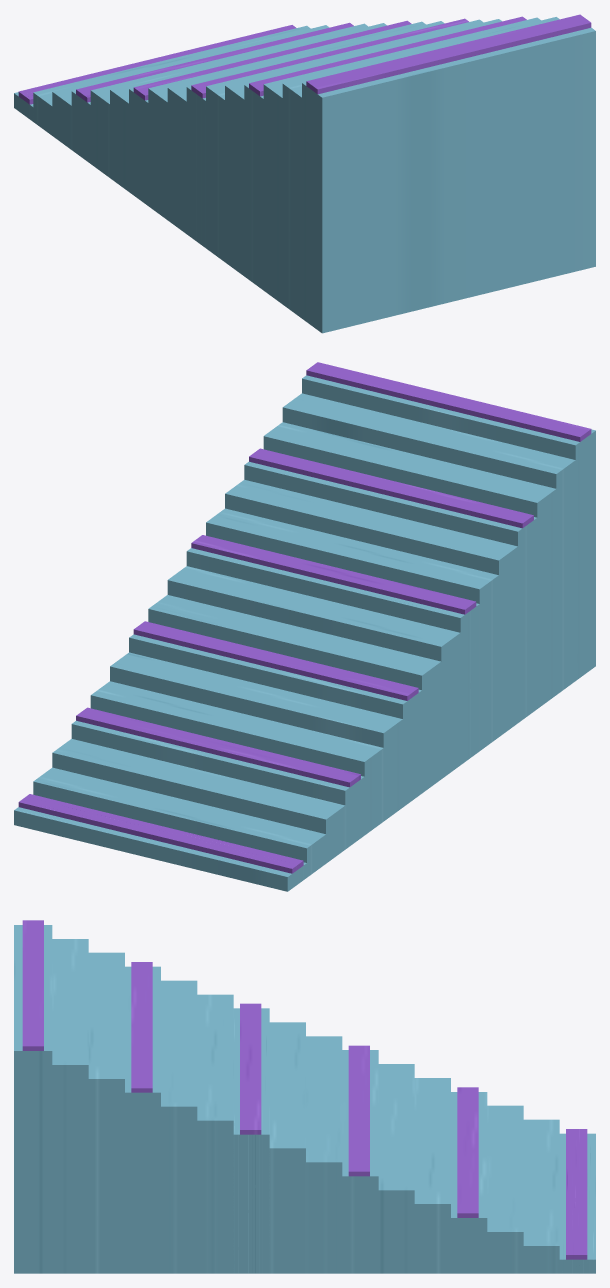
The model's file is snow_stairway.obj.
3 renders of one model, top to bottom at view 1: azimuth 30°, elevation 25°; view 2: azimuth 150°, elevation 25°; view 3: azimuth 270°, elevation 25°, orthographic. The views are drawn at different scales.
Size of the model in its own units: 7 by 5.88 by 13.65.
1 material, 1 textured.
